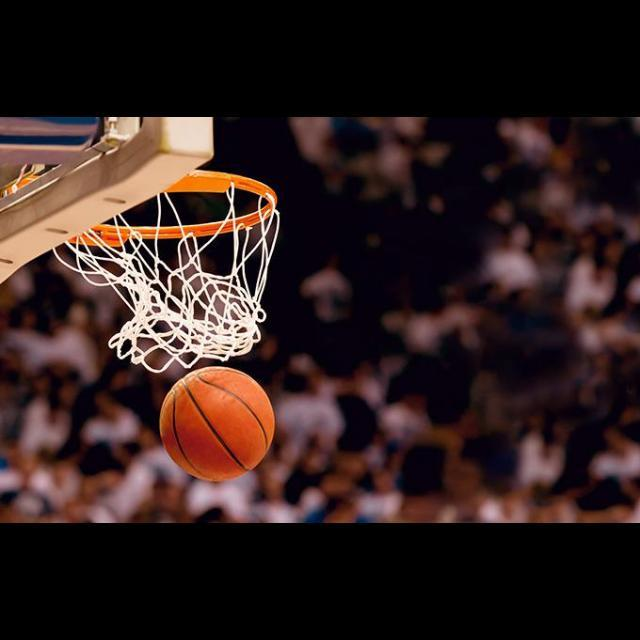basketball: (161, 367, 275, 481)
rim: (57, 170, 279, 362)
